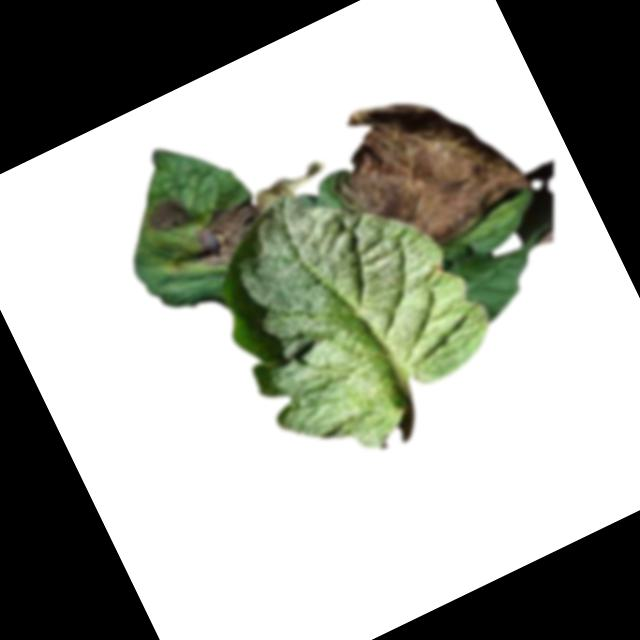Late_blight: (307, 55, 538, 277), (180, 195, 274, 278), (247, 151, 331, 210), (141, 191, 191, 239)
healthy: (187, 141, 519, 483)
